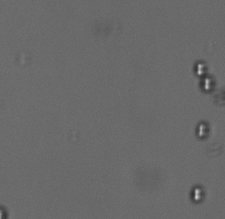Living Cell: (189, 185, 206, 204), (194, 121, 209, 140), (200, 74, 214, 92), (192, 61, 207, 76)
